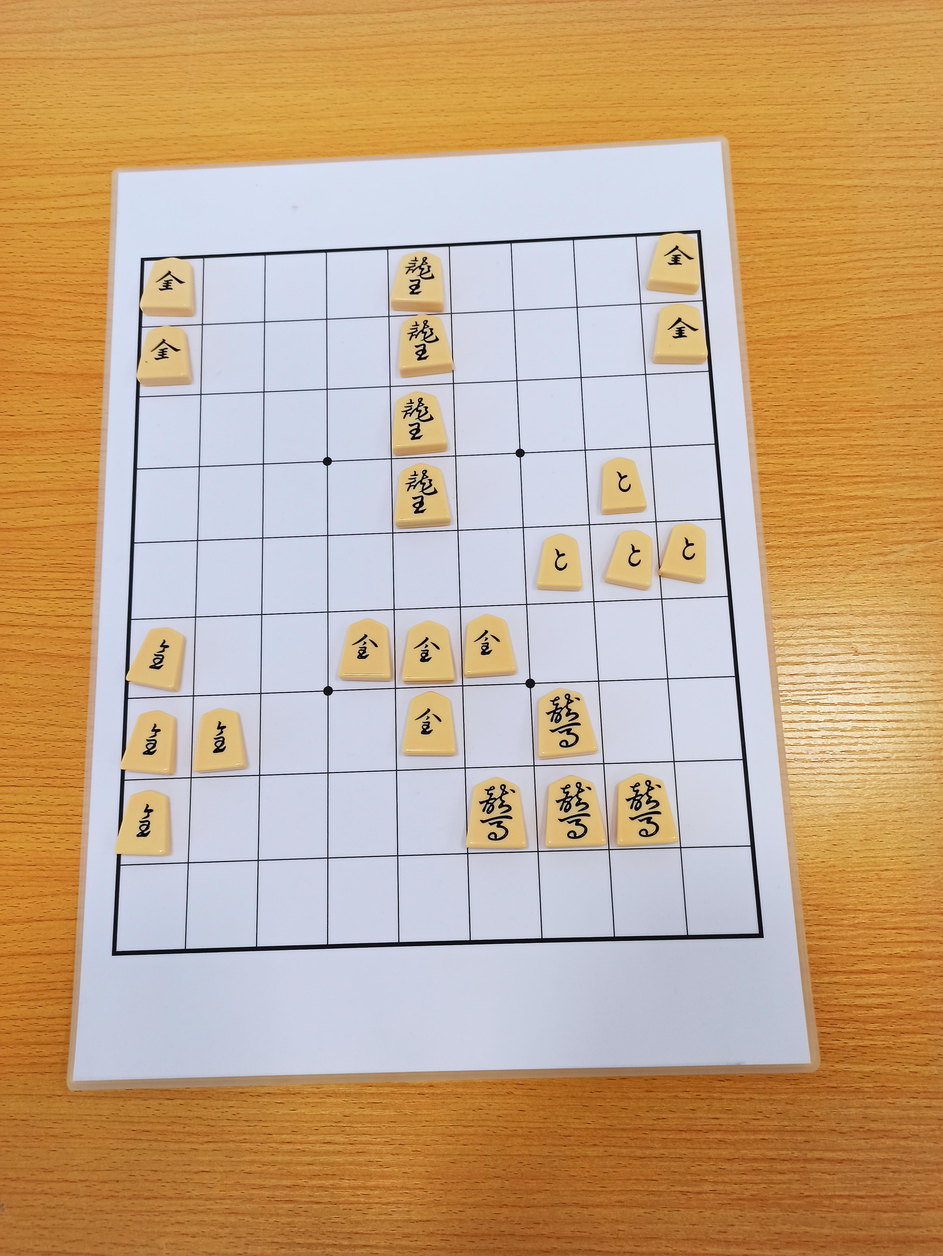board: (116, 230, 761, 955)
